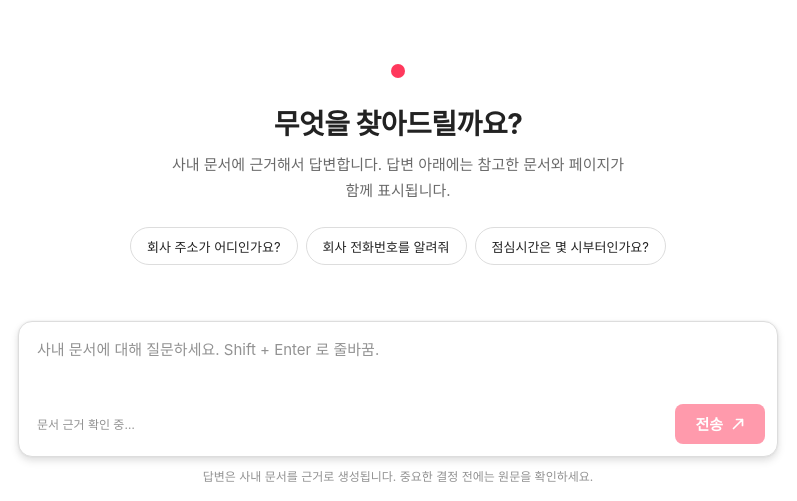
Test: ChatPanel › marks the reply as an error when the server's own last chunk has finishReason "error", while still showing its safe message text
Type "hi" into the text box at (398, 359), box [19,322,777,396]
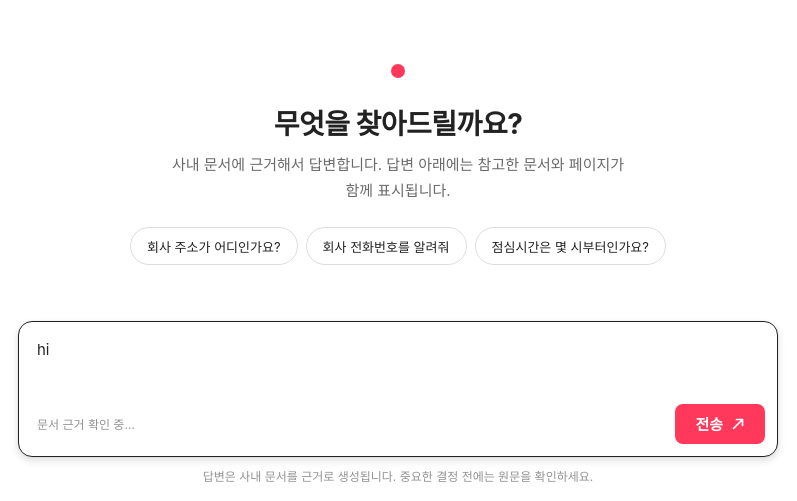
Click the button "전송" at (720, 424), box [675,404,765,444]
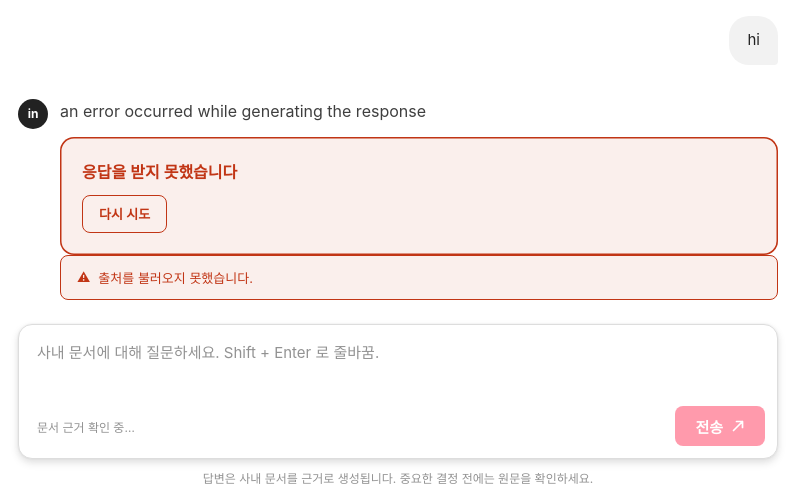
expect the message "an error occurred while generating the response" is shown: met, box [60,101,426,121]
